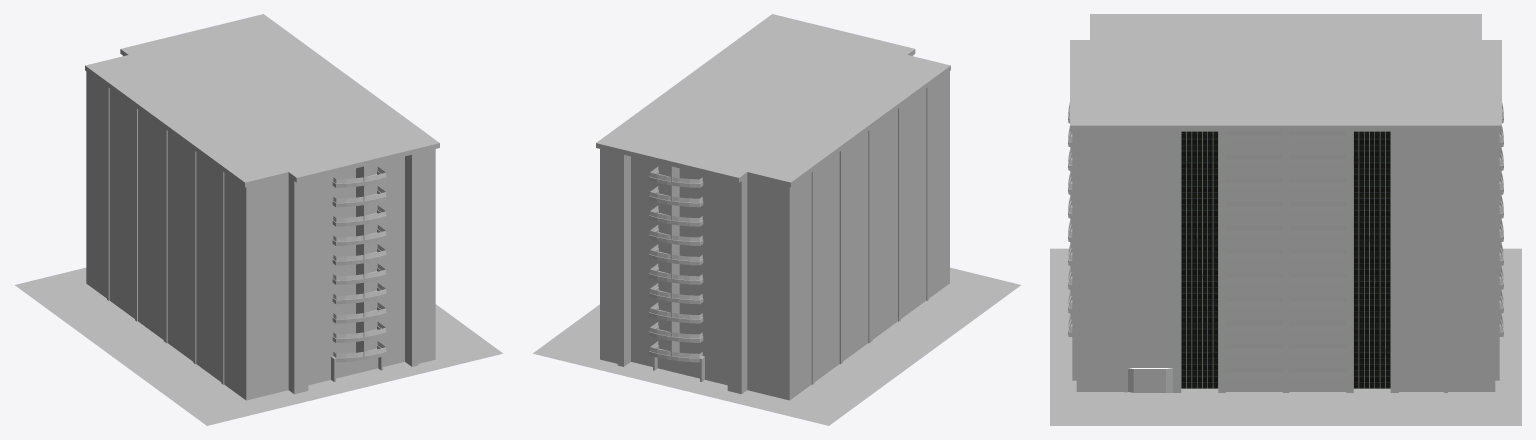
3 views of the same model, side by side, from view 1: azimuth 30°, elevation 25°; view 2: azimuth 150°, elevation 25°; view 3: azimuth 270°, elevation 25° (orthographic). The views are drawn at different scales.
Parts seen in each view (by area): view 1: M-013; view 2: M-013; view 3: M-013.
Part boxes in pixels (x1,y1,x2,y2): M-013: (15, 14, 502, 425); M-013: (533, 14, 1020, 425); M-013: (1050, 14, 1521, 425).
Size of what is drawn, in the model's own units: 64 by 45 by 72.
